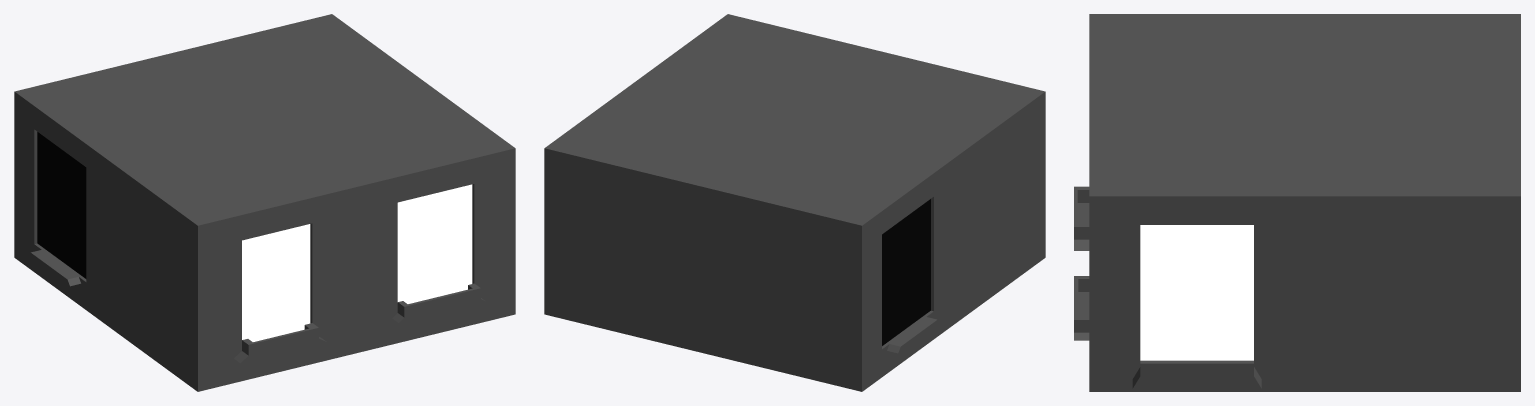
The model's file is Immeuble1Milieu.fbx.
3 renders of one model, left to right at view 1: azimuth 30°, elevation 25°; view 2: azimuth 150°, elevation 25°; view 3: azimuth 270°, elevation 25°, orthographic. The views are drawn at different scales.
Visible parts, largest first — view 1: Cube.018; view 2: Cube.018; view 3: Cube.018.
Part boxes in pixels (x1,y1,x2,y2): Cube.018: [14, 14, 515, 391]; Cube.018: [544, 14, 1045, 391]; Cube.018: [1074, 14, 1520, 391].
Size of the model in its own units: 2176 by 1000 by 2071.
